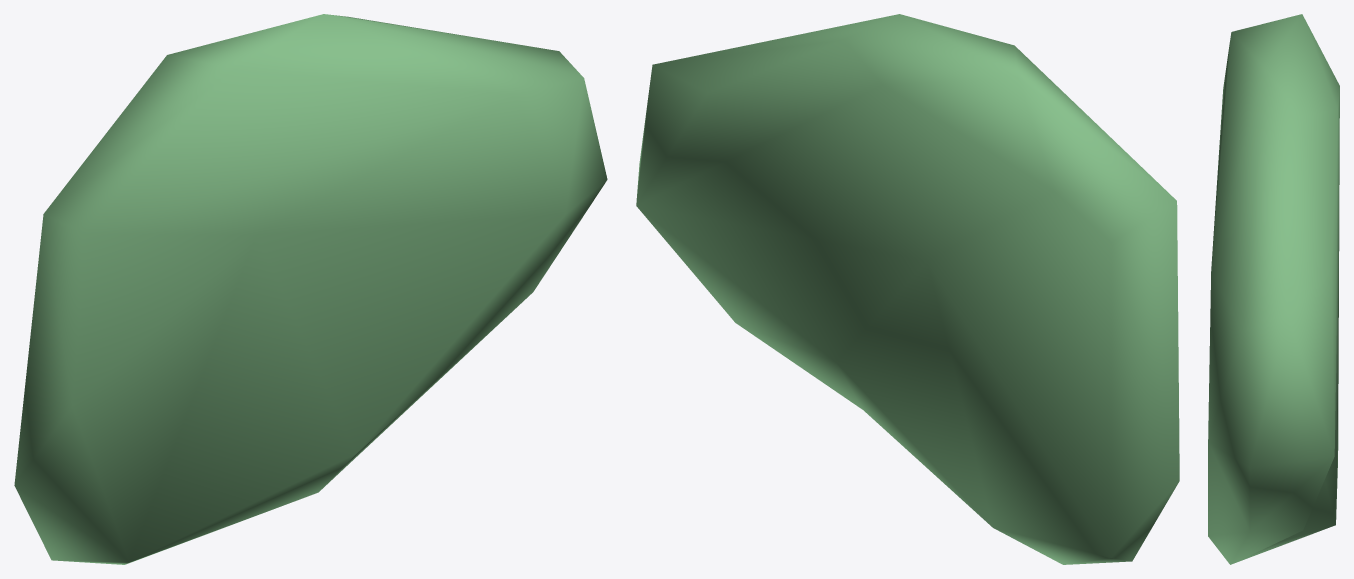
Rendered from rock_001_c.fbx.
3 renders of one model, left to right at view 1: azimuth 30°, elevation 25°; view 2: azimuth 150°, elevation 25°; view 3: azimuth 270°, elevation 25°, orthographic. The views are drawn at different scales.
Parts seen in each view (by area): view 1: rock_001_c_LOD0; view 2: rock_001_c_LOD0; view 3: rock_001_c_LOD0.
Boxes of the visible parts, x1,y1,x2,y2 form: rock_001_c_LOD0: [14, 14, 607, 564]; rock_001_c_LOD0: [636, 14, 1179, 564]; rock_001_c_LOD0: [1208, 14, 1339, 564].
Size of the model in its own units: 102 by 18.31 by 87.07.
